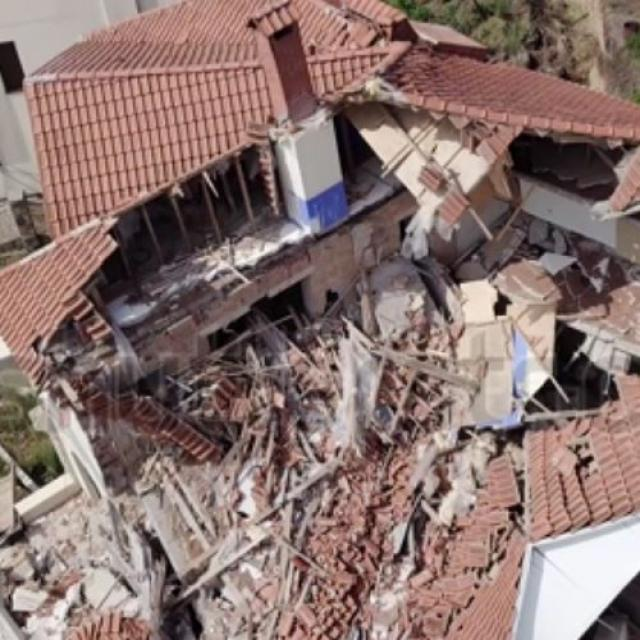collapsed_building: (49, 71, 636, 634)
